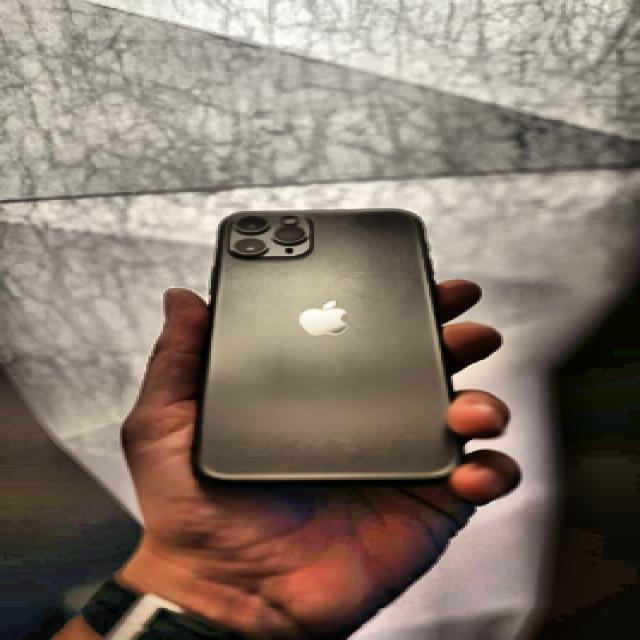Phone: (188, 201, 470, 494)
